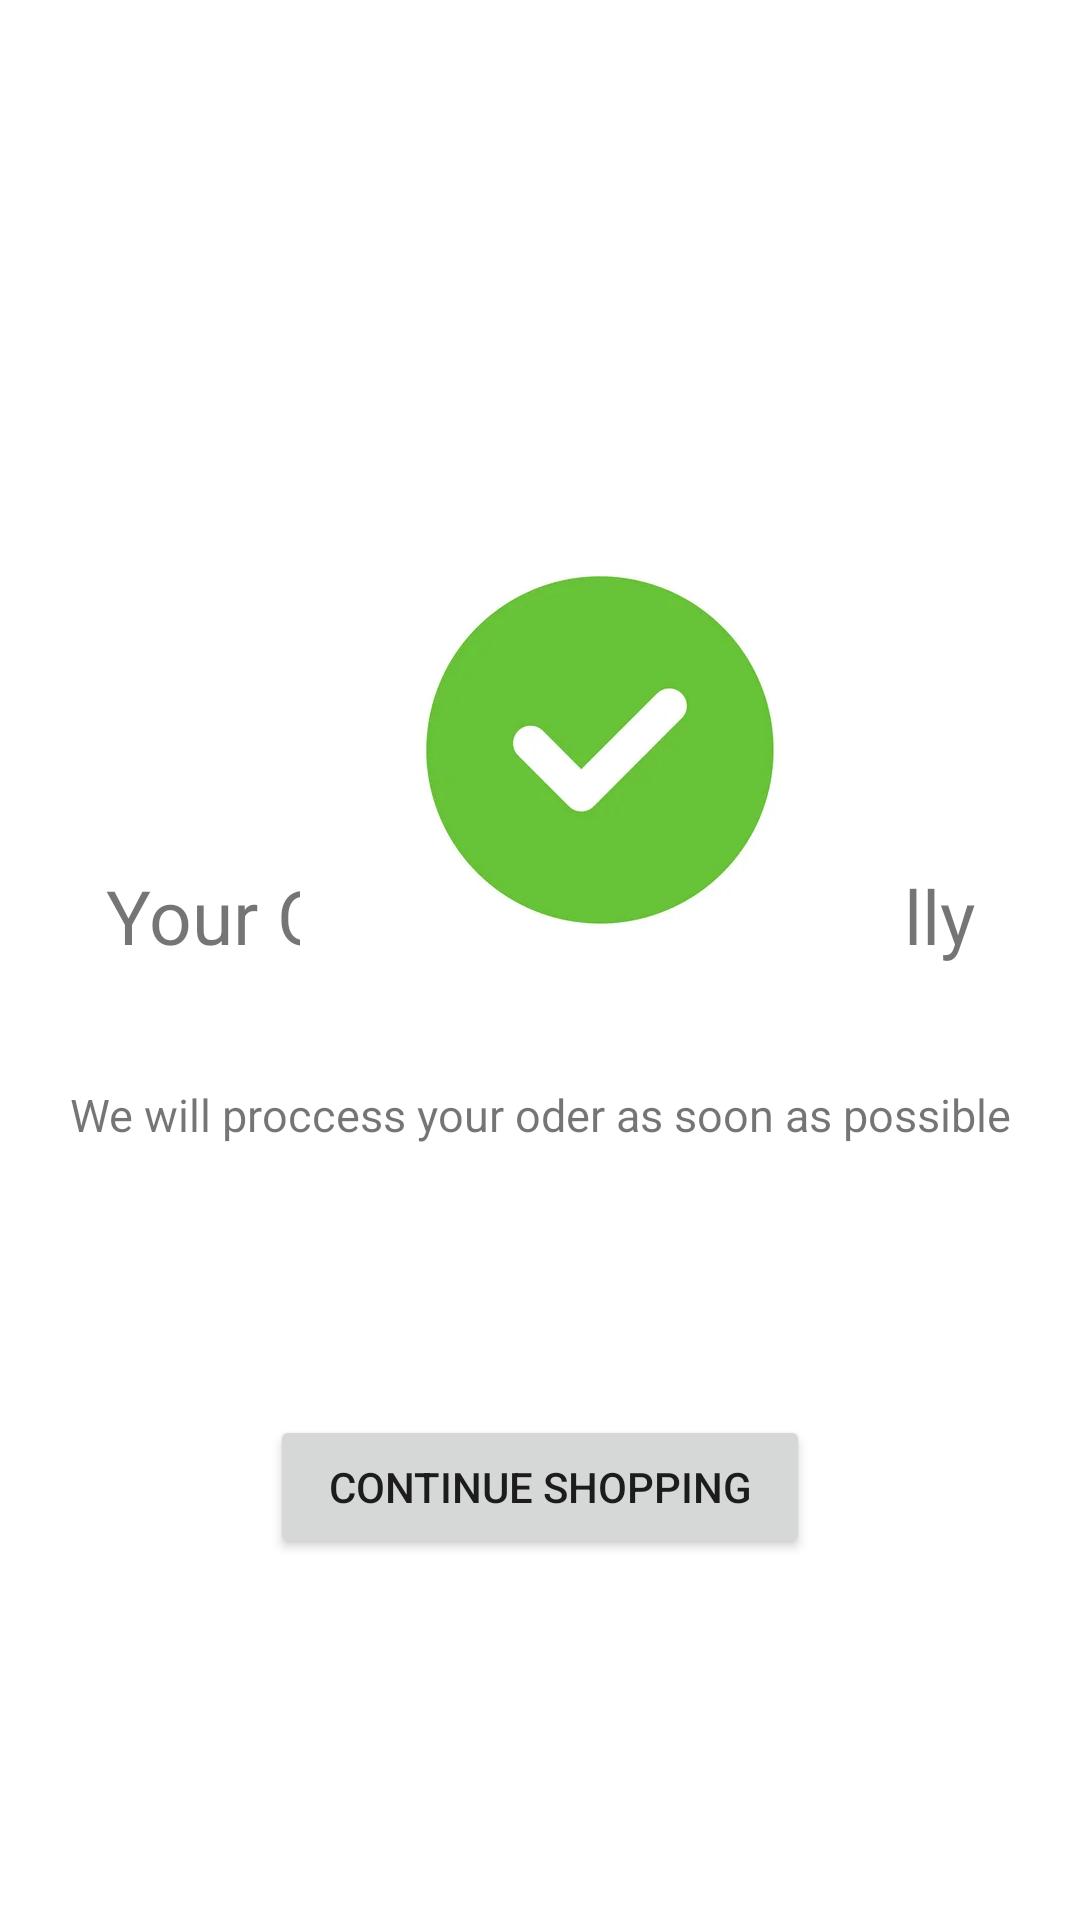

Where to tap for icons on this 1080x1920 app screen, as [x,y]:
rightmark: [600,749]
